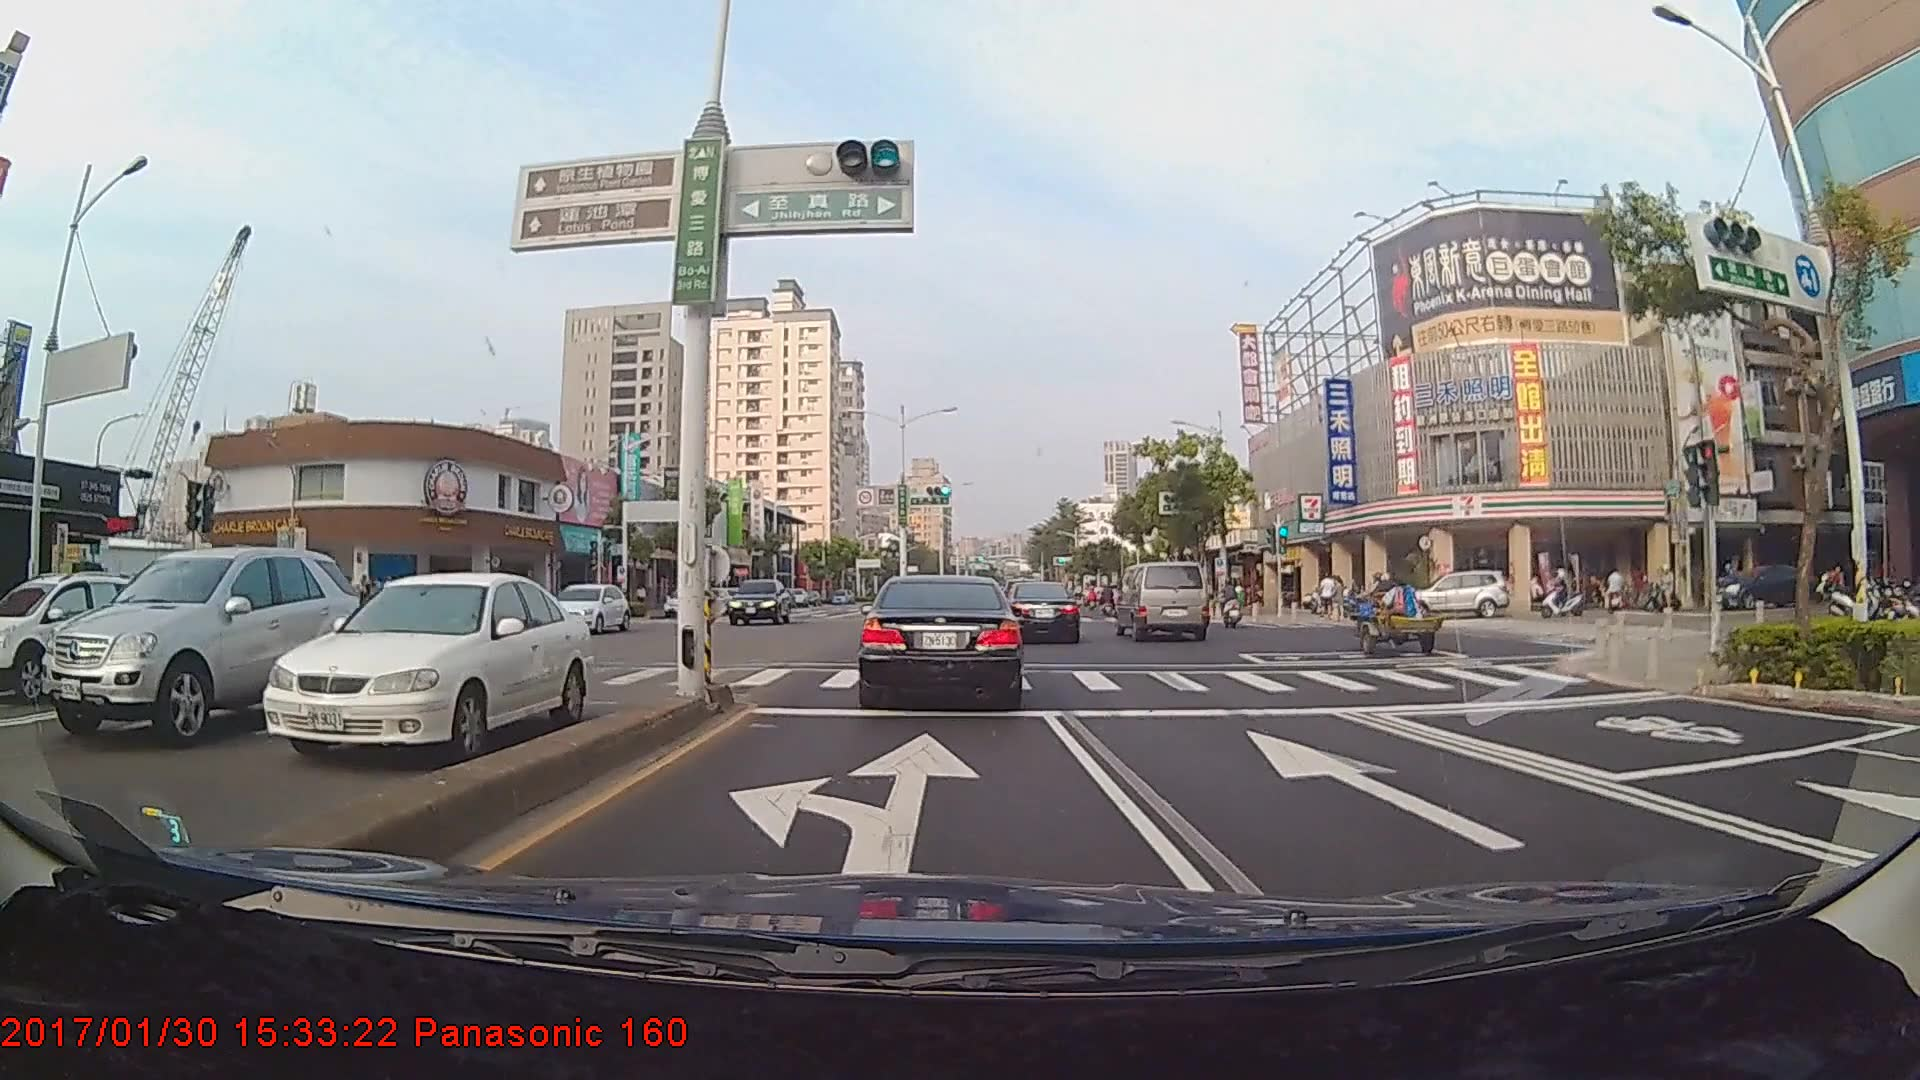pedestrian: (1317, 571, 1337, 620)
rider: (1533, 560, 1591, 621), (1212, 579, 1248, 632)
vehicle: (245, 566, 576, 767), (48, 541, 344, 743), (0, 564, 167, 705), (858, 572, 1024, 703), (1118, 560, 1209, 643), (1399, 569, 1509, 618), (546, 580, 627, 636), (1010, 581, 1080, 643), (726, 577, 791, 626), (663, 585, 703, 616)
